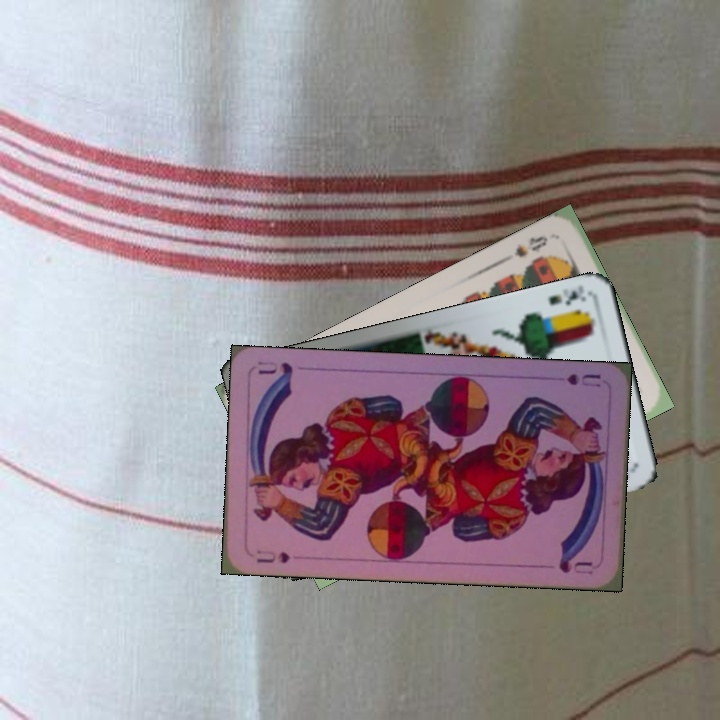EK: (544, 282, 589, 308)
S8: (510, 231, 550, 261)
SU: (562, 369, 603, 390), (253, 546, 293, 566)
